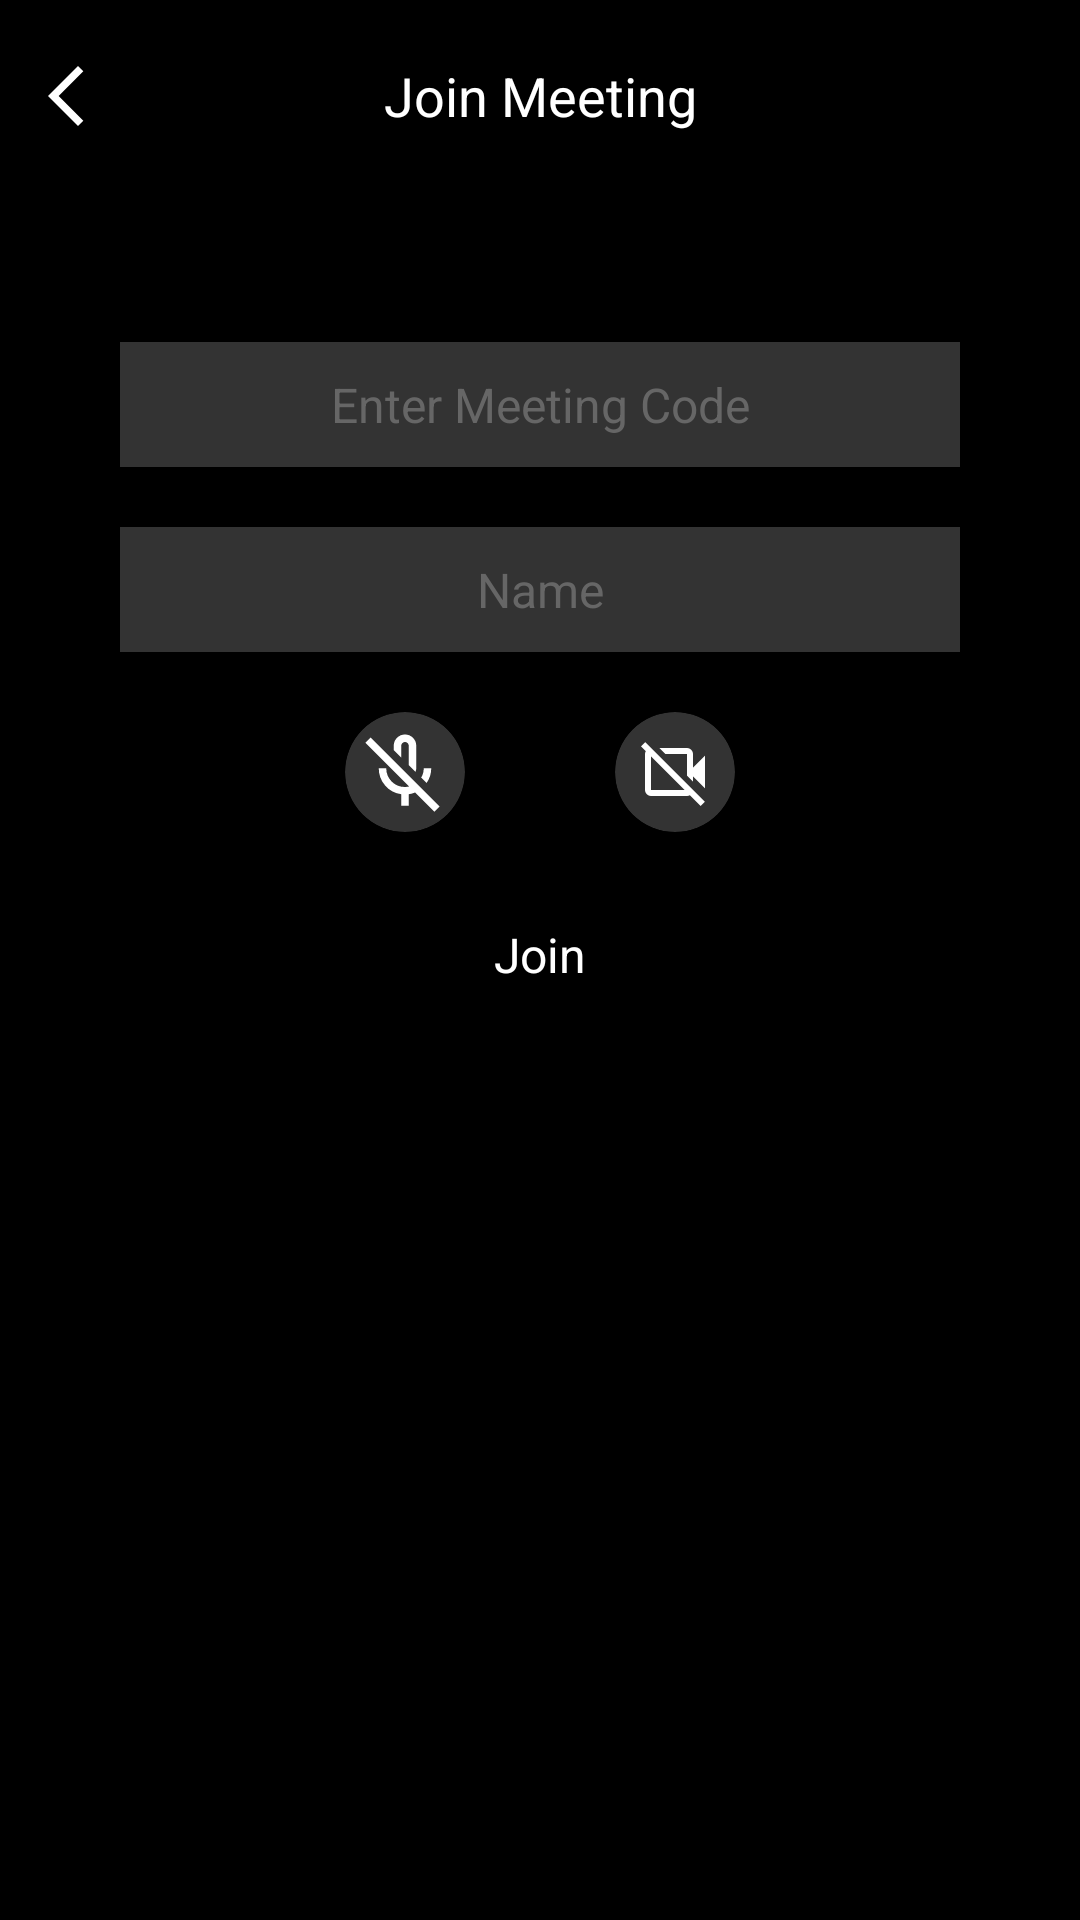

Point at icon controls on the screen. Image size 1080 × 1920, points as point (x, y).
arrow back: point (65, 96)
mic off: point (405, 772)
videocam off: point (675, 772)
